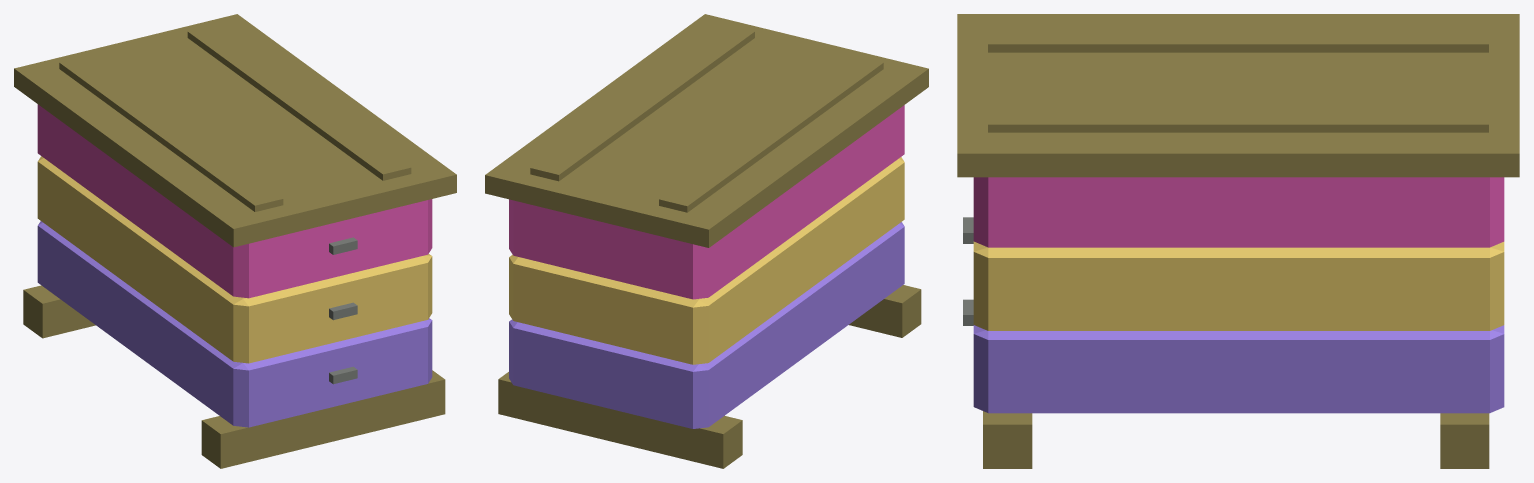
Rendered from beehive04.fbx.
3 renders of one model, left to right at view 1: azimuth 30°, elevation 25°; view 2: azimuth 150°, elevation 25°; view 3: azimuth 270°, elevation 25°, orthographic. The views are drawn at different scales.
Visible parts, largest first — view 1: Cube.007; view 2: Cube.007; view 3: Cube.007.
Boxes of the visible parts, bbox=[...] form: Cube.007: bbox=[14, 14, 456, 468]; Cube.007: bbox=[485, 14, 928, 468]; Cube.007: bbox=[957, 14, 1519, 468].
Size of the model in its own units: 0.7668 by 0.8209 by 1.29.
